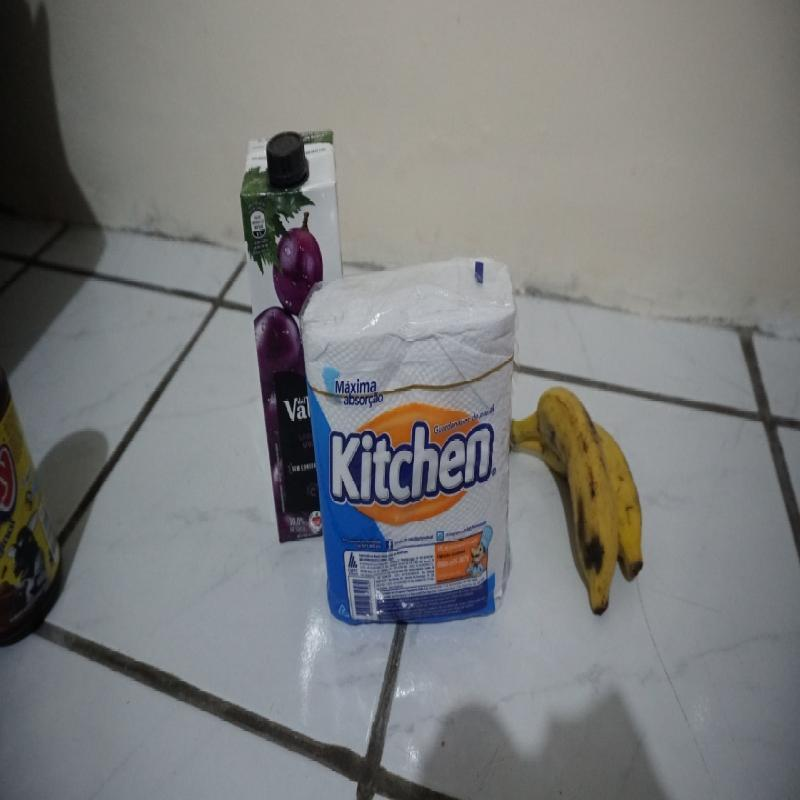Banana: (509, 383, 644, 620)
Chocolate Powder: (0, 354, 66, 644)
Napkin: (299, 254, 520, 628)
